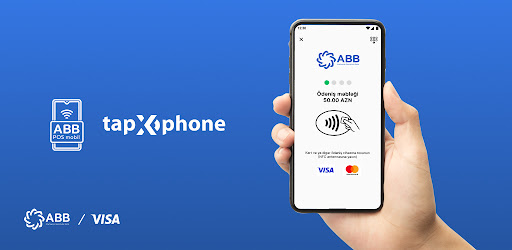ABB: (22, 208, 44, 231), (315, 49, 336, 69)
